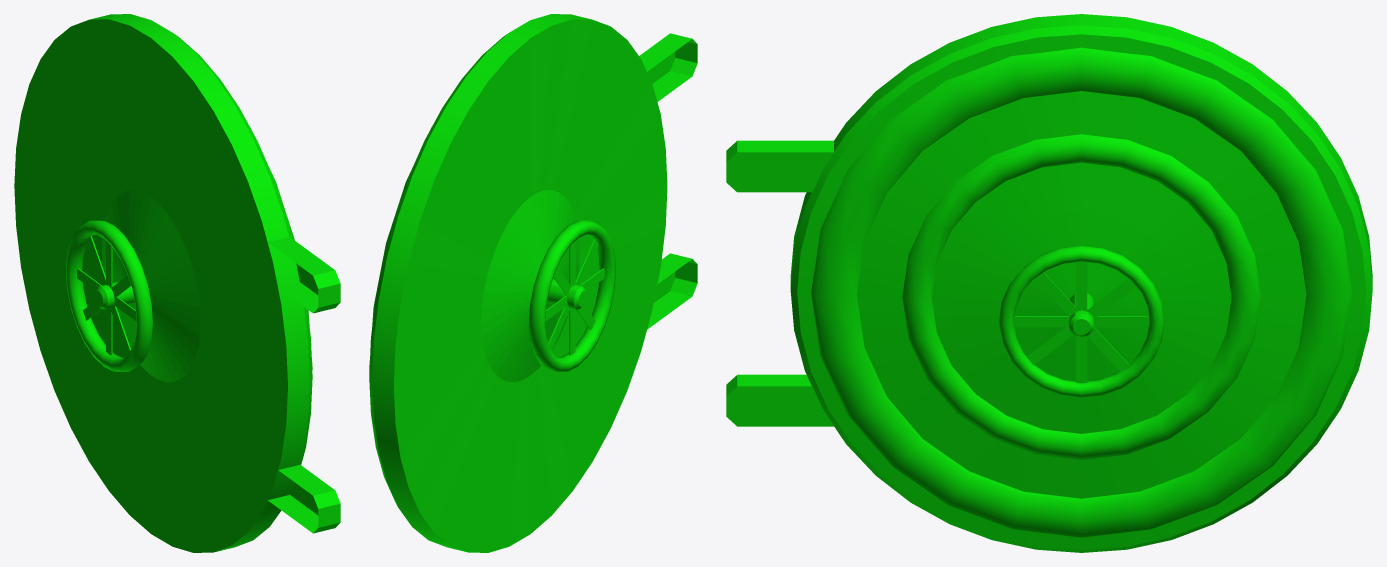
The model's file is SM_Pipes_Door.fbx.
3 renders of one model, left to right at view 1: azimuth 30°, elevation 25°; view 2: azimuth 150°, elevation 25°; view 3: azimuth 270°, elevation 25°, orthographic. The views are drawn at different scales.
Visible parts, largest first — view 1: SM_Pipes_Door; view 2: SM_Pipes_Door; view 3: SM_Pipes_Door.
Part boxes in pixels (left/top/right/bottom): SM_Pipes_Door: left=14, top=14, right=340, bottom=552; SM_Pipes_Door: left=369, top=14, right=697, bottom=552; SM_Pipes_Door: left=726, top=14, right=1372, bottom=552.
Size of the model in its own units: 118 by 380 by 422.
